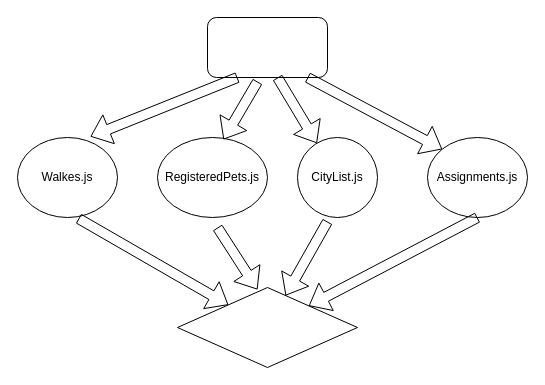
The diagram is 545 pixels wide and 385 high, and some of its shapes have lost their labels. The centre of each missing label's shape, as x and y in pixels:
"database.js" goes at (x=267, y=327).
"main.js" goes at (x=267, y=47).
